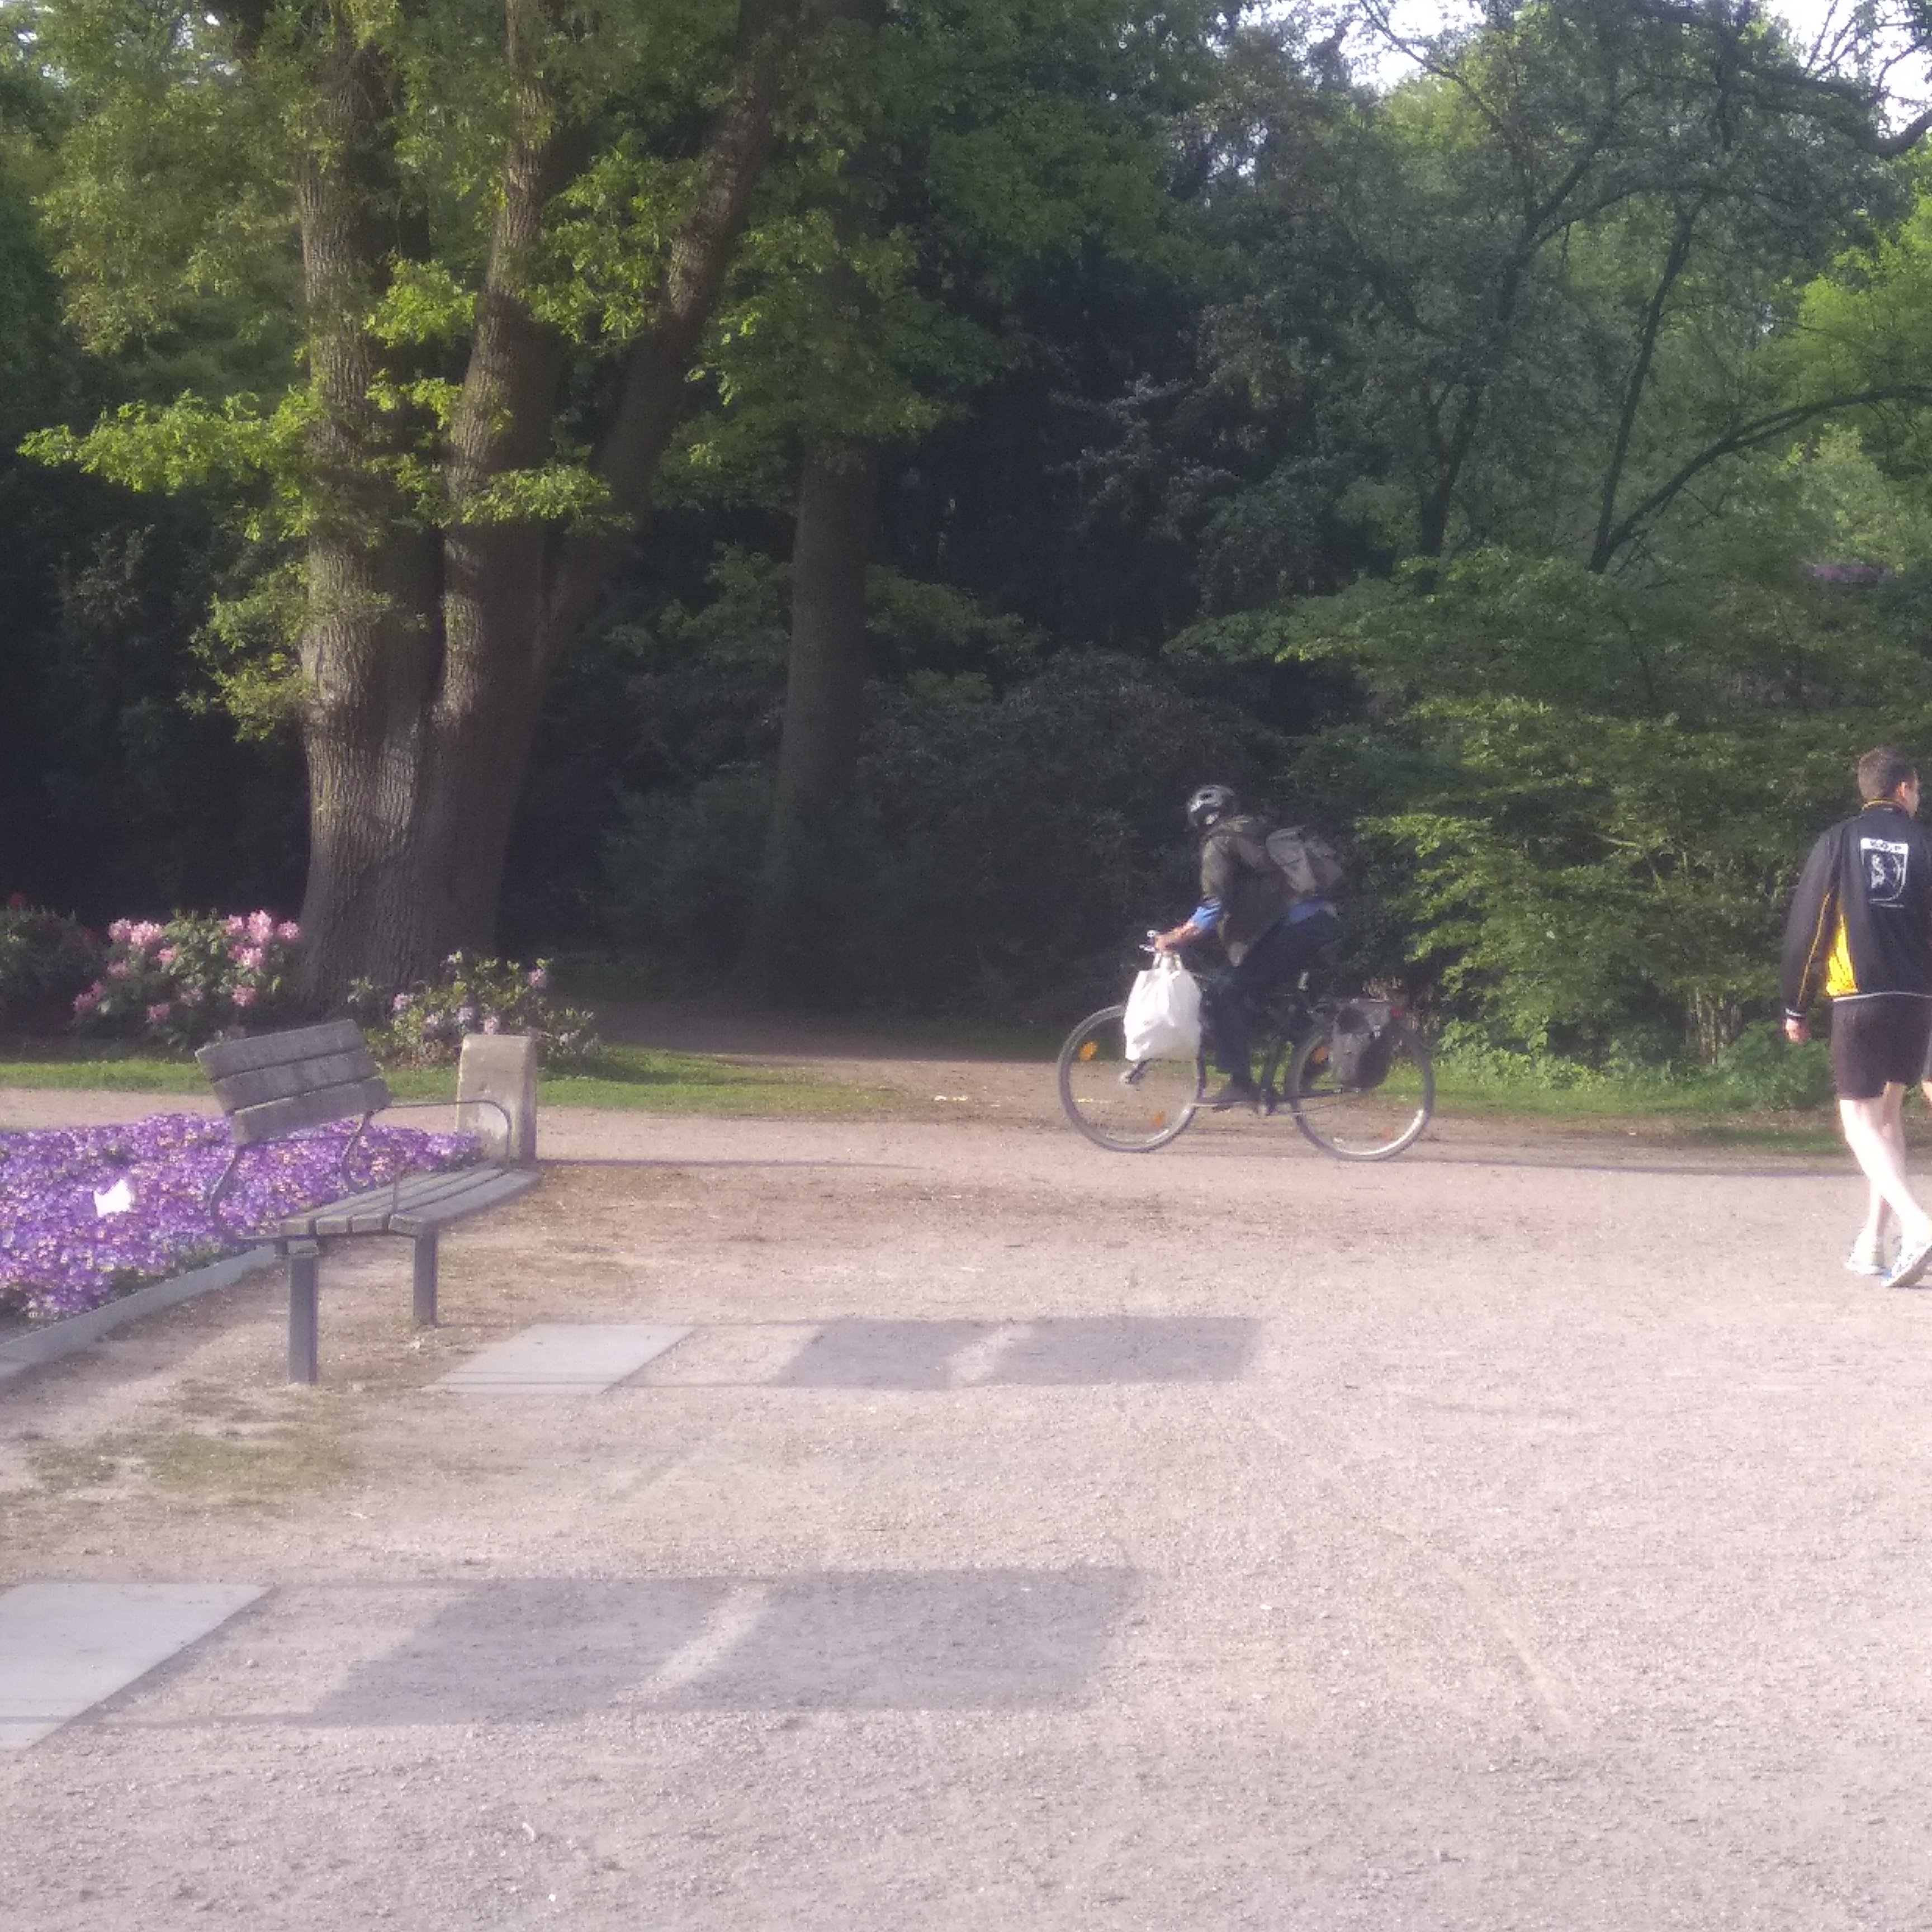bike_left: (1044, 766, 1456, 1162)
